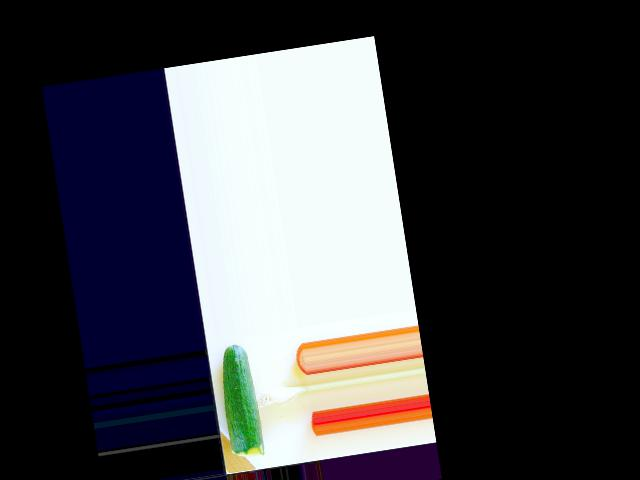cucumber: (214, 341, 264, 459)
